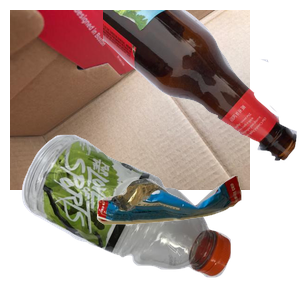cardboard: (10, 10, 250, 190)
glass: (103, 10, 300, 163)
plastic: (19, 132, 242, 300)
trash: (94, 173, 300, 300)
